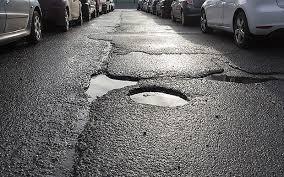pothole: (81, 64, 141, 105), (128, 86, 190, 111)
